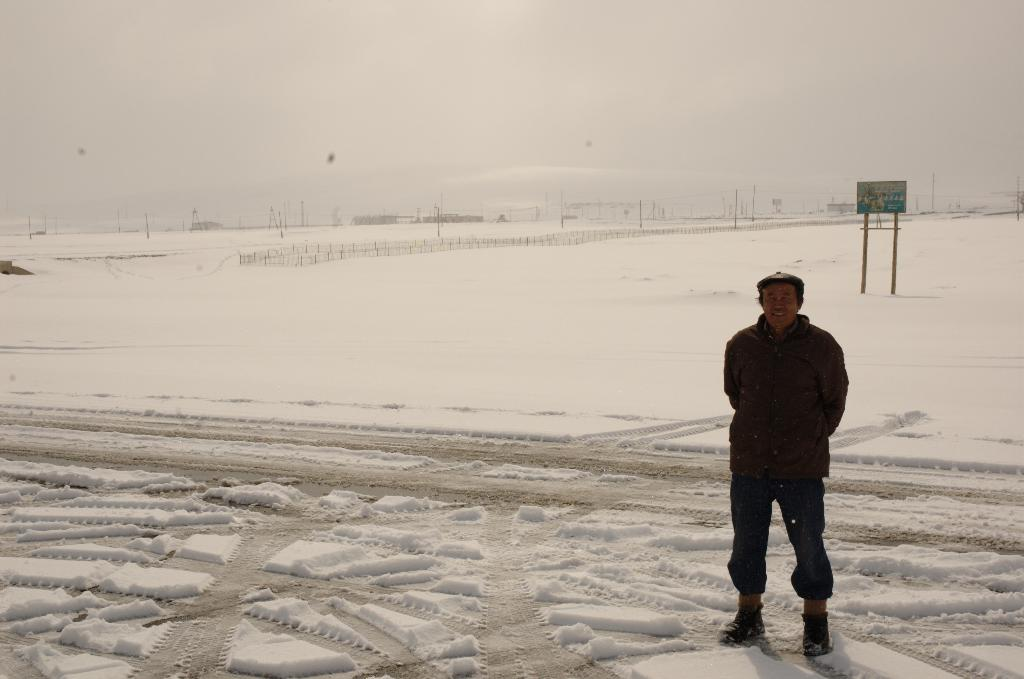Footwear: (720, 604, 766, 648), (799, 613, 838, 655)
